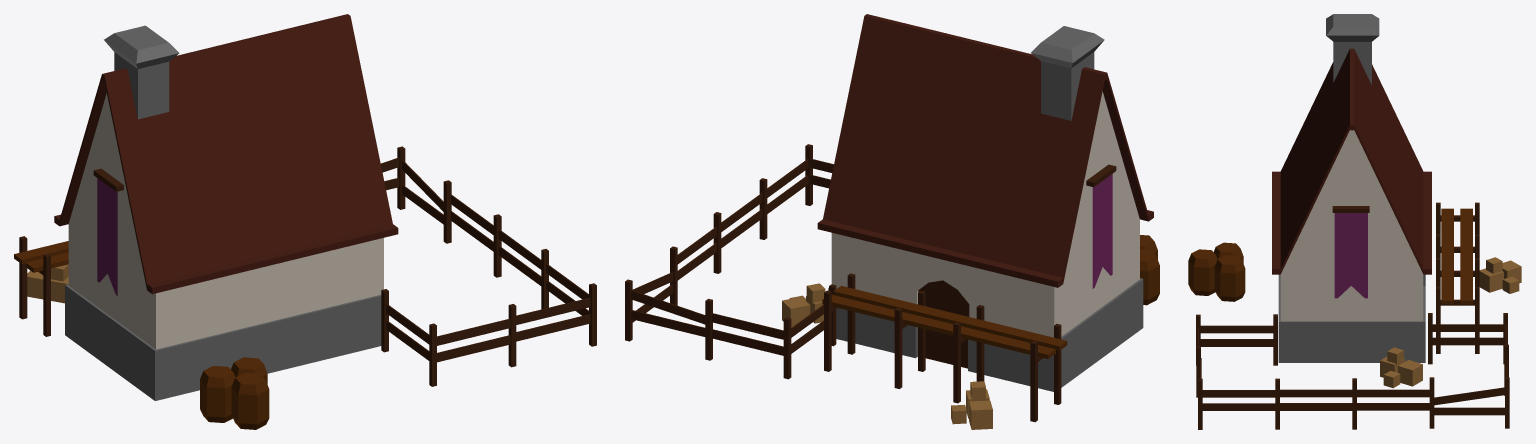
The model's file is PigPenBuildPhase3v1.fbx.
3 views of the same model, side by side, from view 1: azimuth 30°, elevation 25°; view 2: azimuth 150°, elevation 25°; view 3: azimuth 270°, elevation 25° (orthographic). The views are drawn at different scales.
Parts seen in each view (by area): view 1: Plane.989; view 2: Plane.989; view 3: Plane.989.
Boxes of the visible parts, bbox=[...] form: Plane.989: bbox=[14, 14, 596, 429]; Plane.989: bbox=[625, 14, 1159, 429]; Plane.989: bbox=[1188, 14, 1521, 429].
Bounding box in the file's own units: 183 × 138 × 157.
